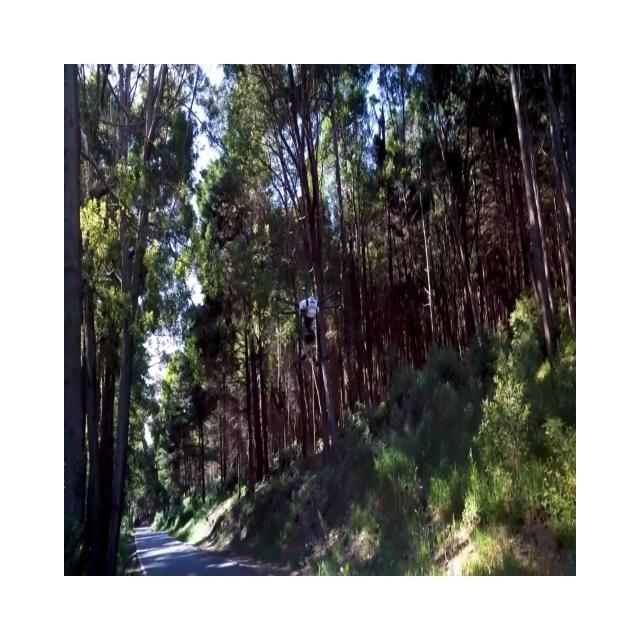drone: (276, 278, 347, 346)
